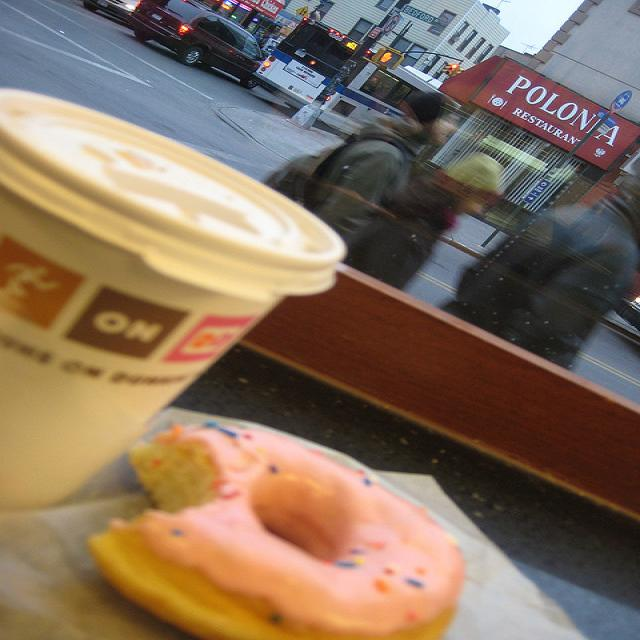Vehicle: (251, 17, 462, 138), (130, 0, 264, 91), (79, 0, 159, 29)
